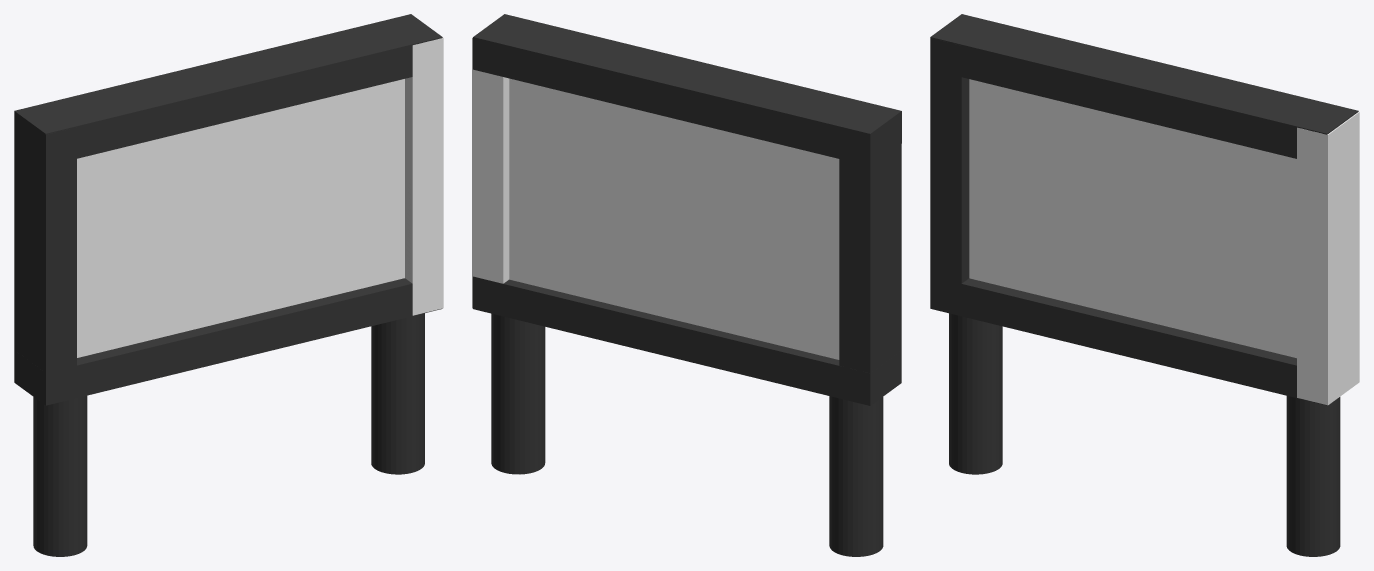
The model's file is Sign1.glb.
3 renders of one model, left to right at view 1: azimuth 30°, elevation 25°; view 2: azimuth 150°, elevation 25°; view 3: azimuth 330°, elevation 25°, orthographic.
Parts seen in each view (by area): view 1: Cube, Cube.001, Cube.004, Cube.002, Cube.003, Cylinder.001, Cylinder; view 2: Cube, Cube.001, Cube.002, Cube.004, Cylinder.001, Cylinder, Cube.003; view 3: Cube, Cube.001, Cube.003, Cube.002, Cube.004, Cylinder, Cylinder.001.
Part boxes in pixels (left/top/right/bottom): Cube: left=77, top=79, right=404, bottom=357; Cube.001: left=14, top=14, right=442, bottom=165; Cube.004: left=14, top=127, right=76, bottom=404; Cube.002: left=14, top=278, right=442, bottom=405; Cube.003: left=405, top=37, right=443, bottom=315; Cylinder.001: left=33, top=395, right=87, bottom=556; Cylinder: left=371, top=313, right=424, bottom=474; Cube: left=509, top=78, right=839, bottom=359; Cube.001: left=473, top=14, right=901, bottom=166; Cube.002: left=473, top=276, right=901, bottom=405; Cube.004: left=839, top=144, right=901, bottom=373; Cylinder.001: left=829, top=396, right=883, bottom=556; Cylinder: left=491, top=313, right=545, bottom=474; Cube.003: left=472, top=37, right=509, bottom=308; Cube: left=969, top=79, right=1296, bottom=358; Cube.001: left=930, top=14, right=1358, bottom=158; Cube.003: left=1297, top=112, right=1359, bottom=405; Cube.002: left=930, top=278, right=1326, bottom=405; Cube.004: left=930, top=38, right=969, bottom=315; Cylinder: left=1286, top=396, right=1340, bottom=556; Cylinder.001: left=949, top=313, right=1002, bottom=474.
Size of the model in its own units: 5.11 by 5.28 by 0.7011.
Materials: 7 (5 with a texture image).
